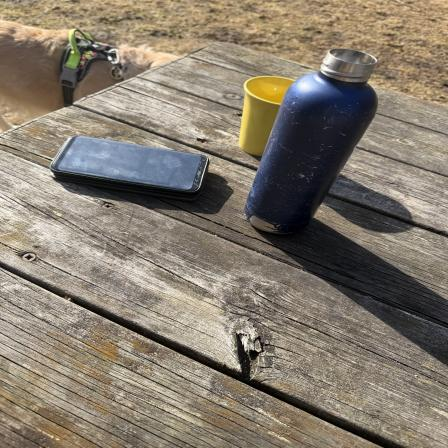blue_bottle: (252, 47, 381, 239)
phone: (48, 134, 213, 199)
yellow_cup: (241, 76, 299, 160)
